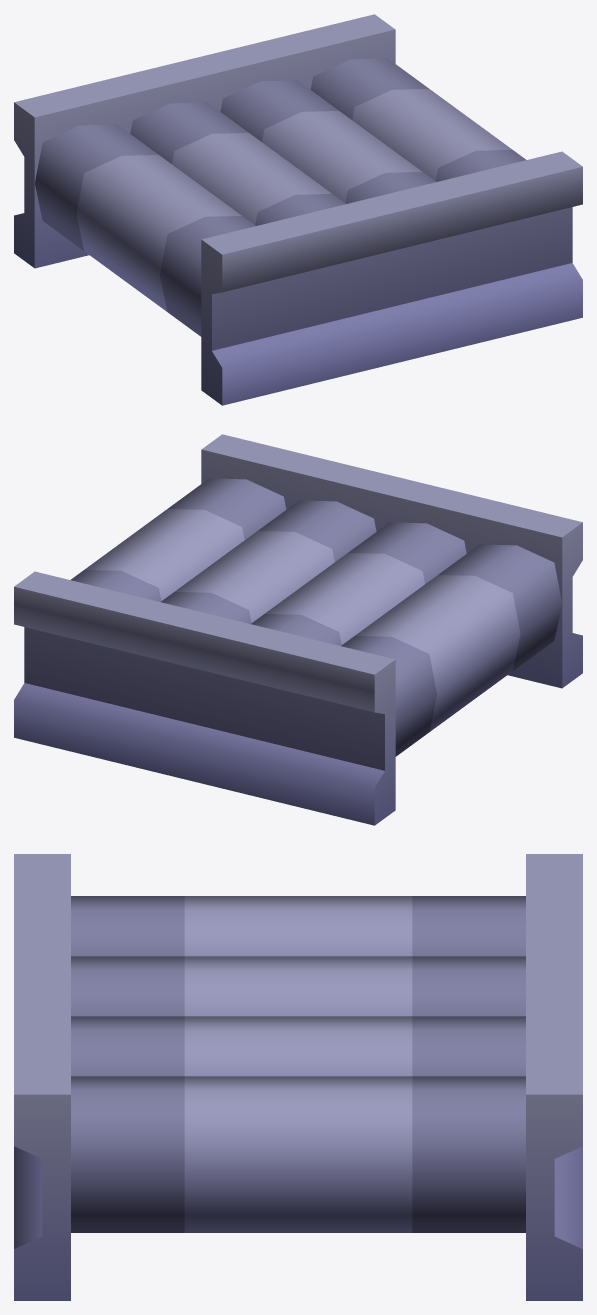
The model's file is conveyor-bars-stripe-high.fbx.
The picture shows the model from 3 angles, top to bottom: view 1: azimuth 30°, elevation 25°; view 2: azimuth 150°, elevation 25°; view 3: azimuth 270°, elevation 25°; orthographic projection. The views are drawn at different scales.
Visible parts, largest first — view 1: conveyor-bars-stripe-high; view 2: conveyor-bars-stripe-high; view 3: conveyor-bars-stripe-high.
Part boxes in pixels (x1,y1,x2,y2): conveyor-bars-stripe-high: [14, 14, 582, 405]; conveyor-bars-stripe-high: [14, 434, 582, 825]; conveyor-bars-stripe-high: [14, 854, 582, 1300].
Size of the model in its own units: 100 by 40 by 100.
Materials: 1 (1 with a texture image).
